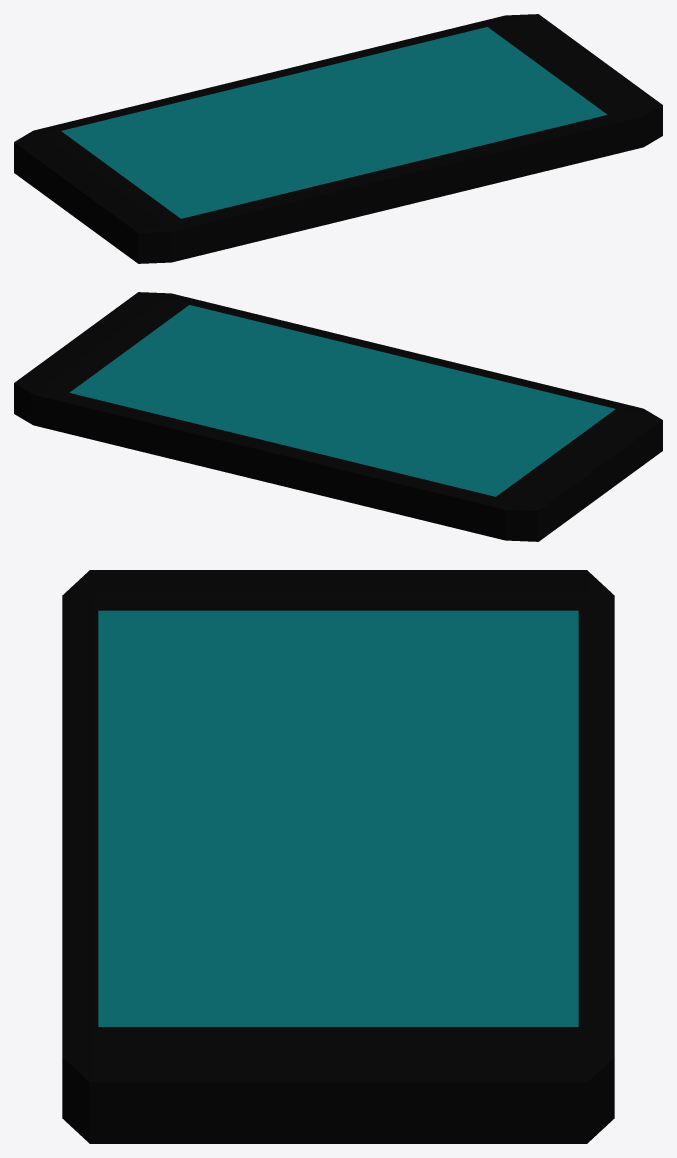
File: SmartPhone_01.fbx
3 views of the same model, one above another, from view 1: azimuth 30°, elevation 25°; view 2: azimuth 150°, elevation 25°; view 3: azimuth 270°, elevation 25° (orthographic). The views are drawn at different scales.
Visible parts, largest first — view 1: SmartPhone_01; view 2: SmartPhone_01; view 3: SmartPhone_01.
Part boxes in pixels (x1=…): SmartPhone_01: x1=14, y1=14, x2=662, y2=263; SmartPhone_01: x1=14, y1=292, x2=662, y2=541; SmartPhone_01: x1=62, y1=570, x2=614, y2=1143.
Size of the model in its own units: 0.1379 by 0.0086 by 0.0629.
